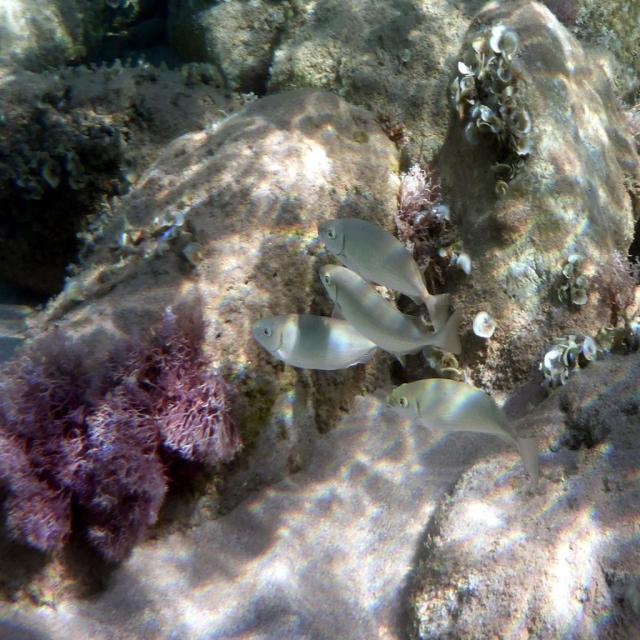Sokar Baligi: (386, 373, 549, 496)
